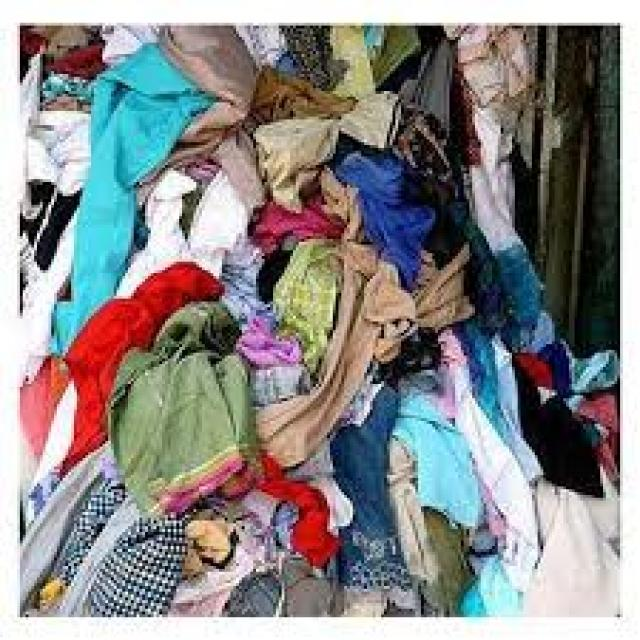Clothes -Biodegradable-: (21, 23, 617, 619)
